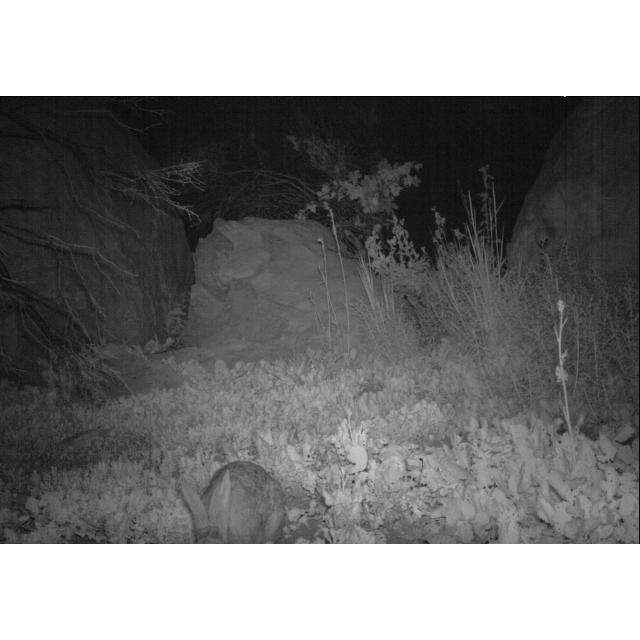animals: (172, 457, 290, 545)
